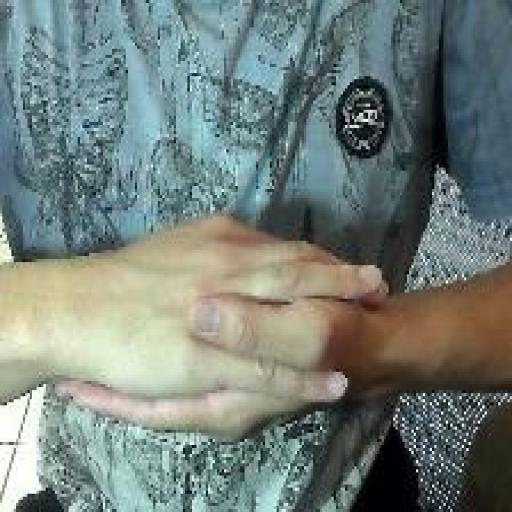Saru -monkey-: (49, 206, 394, 452)
